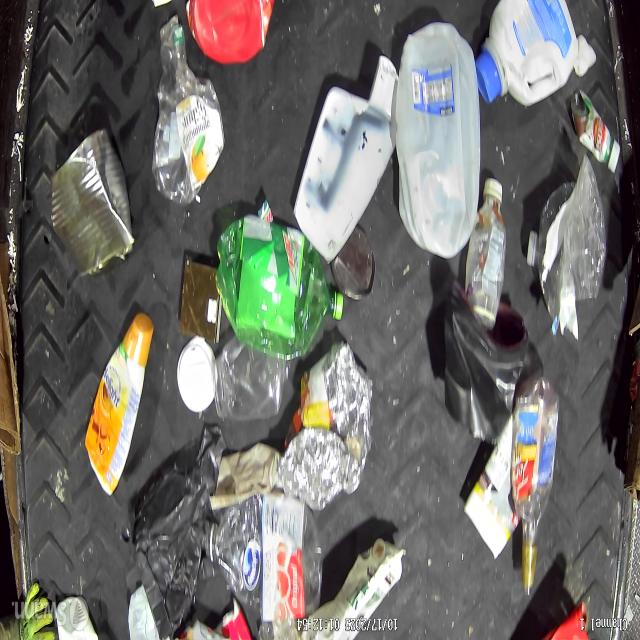can: (49, 125, 134, 278)
milk_jug: (396, 25, 480, 256), (478, 2, 579, 107)
non_white_jug: (85, 313, 153, 496)
plastic_bottle: (204, 493, 322, 613), (153, 18, 224, 205), (465, 178, 506, 330)
